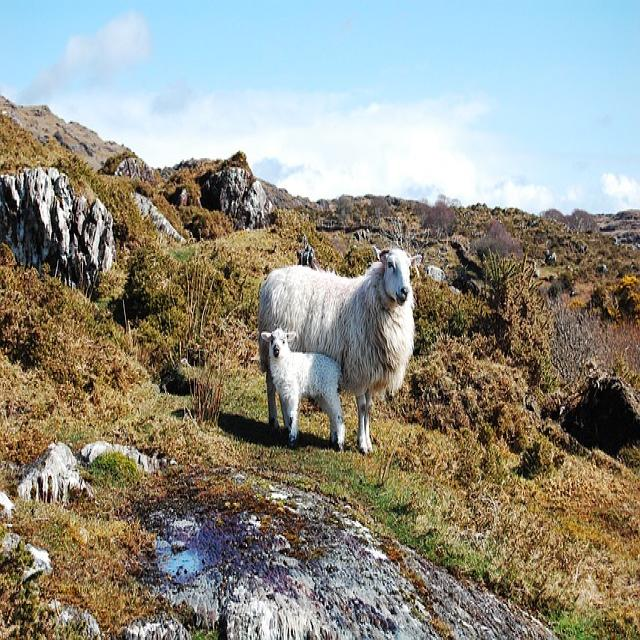goat: (259, 247, 415, 453), (261, 328, 345, 449)
